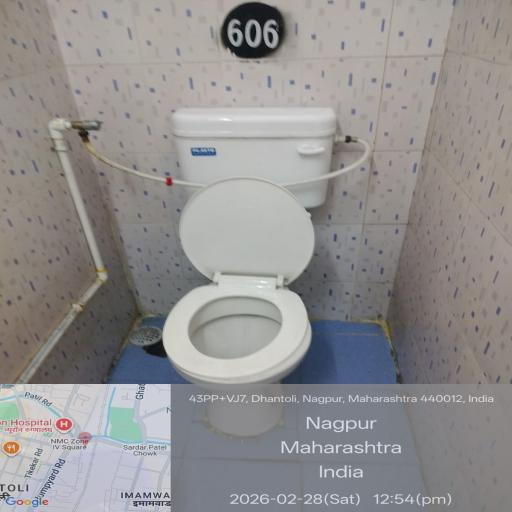clean_floor: (28, 303, 464, 498), (28, 22, 444, 152)
clean_western: (137, 221, 339, 438)
